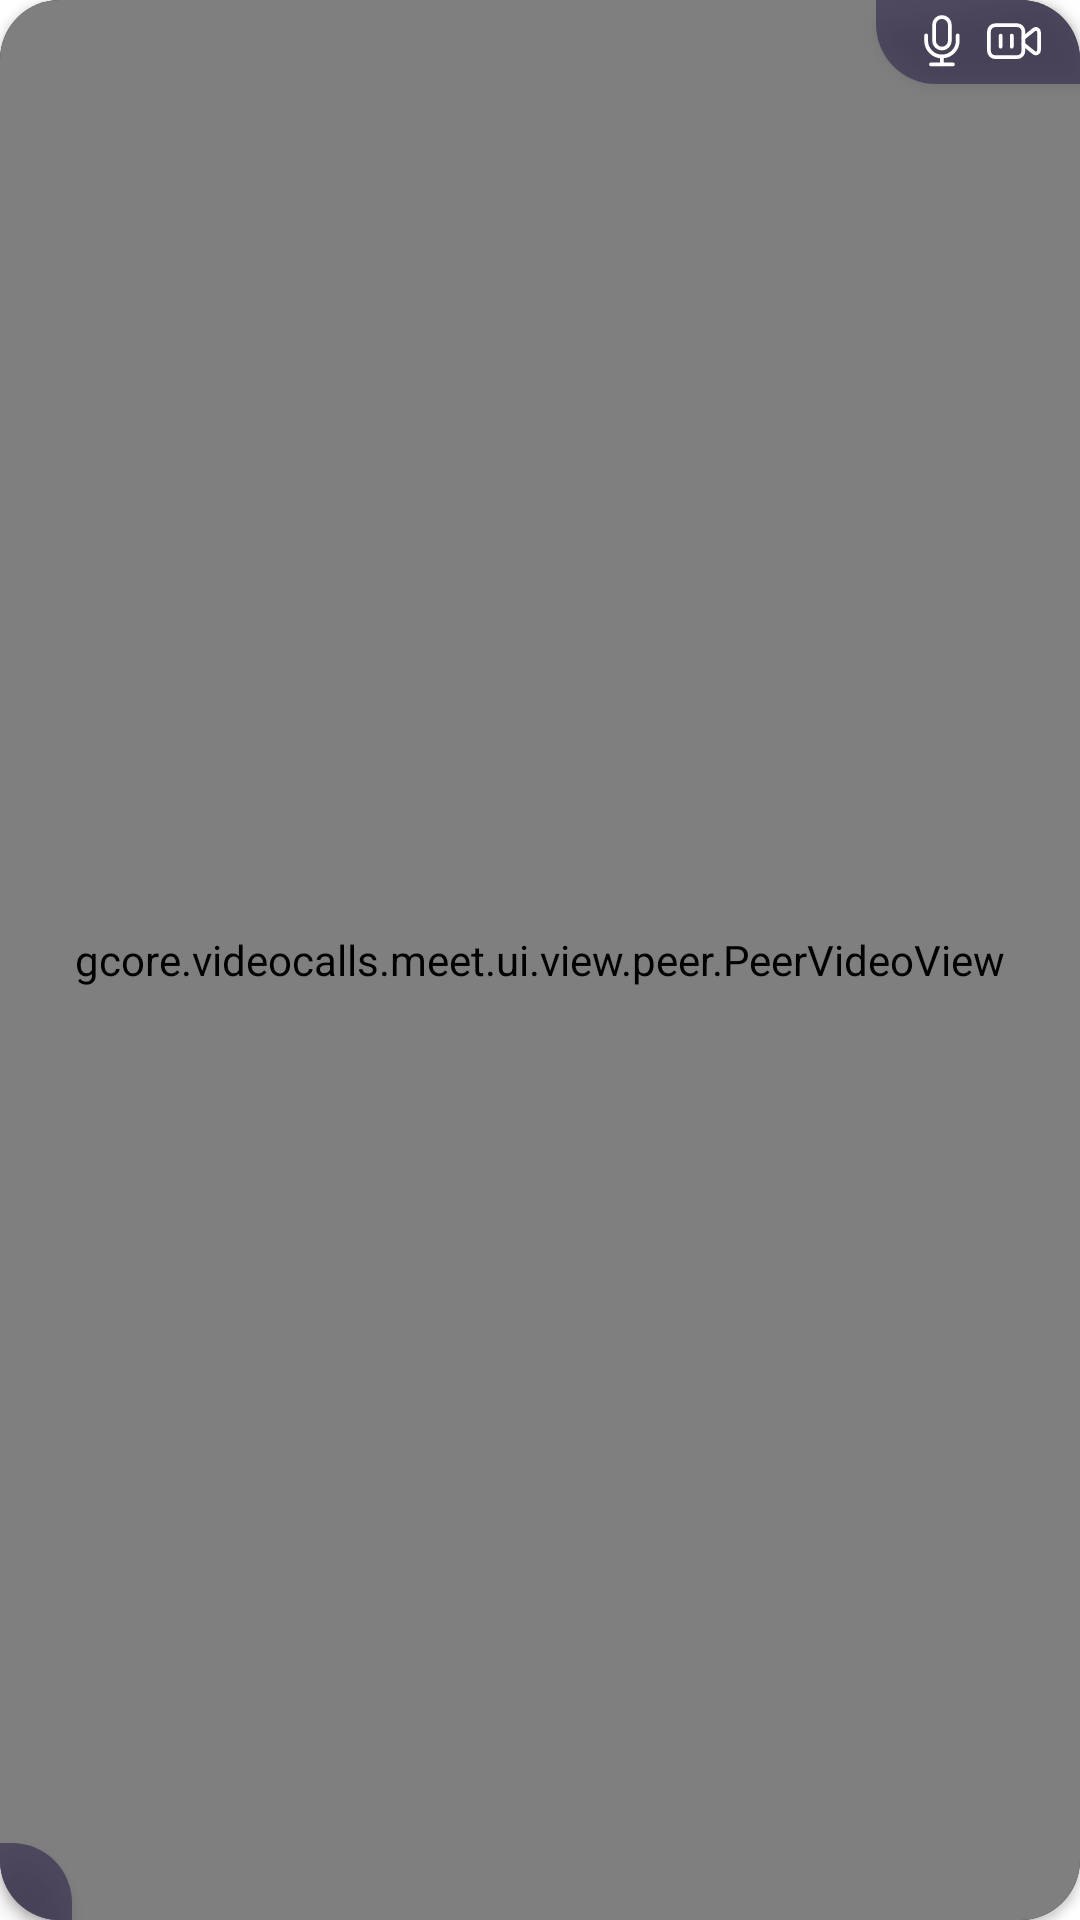

Icons on this 1080 x 1920 Android screen, each with its box as (x1, y1, x2, y2):
peer camera: (987, 23, 1041, 59)
peer micro: (924, 15, 960, 67)
